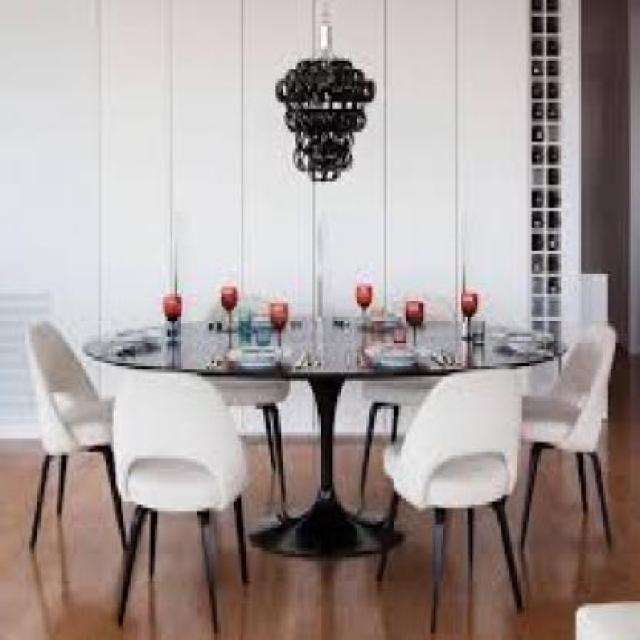tables: (81, 316, 562, 562)
